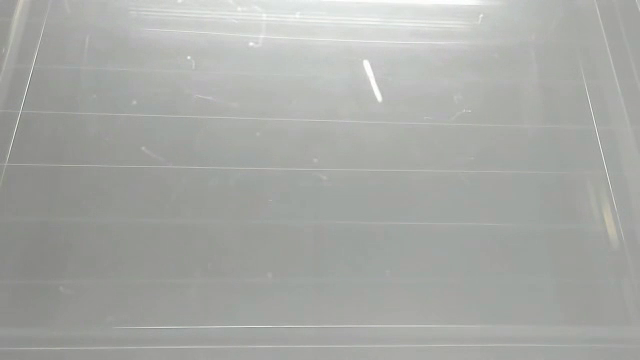alpha: (357, 55, 389, 105)
